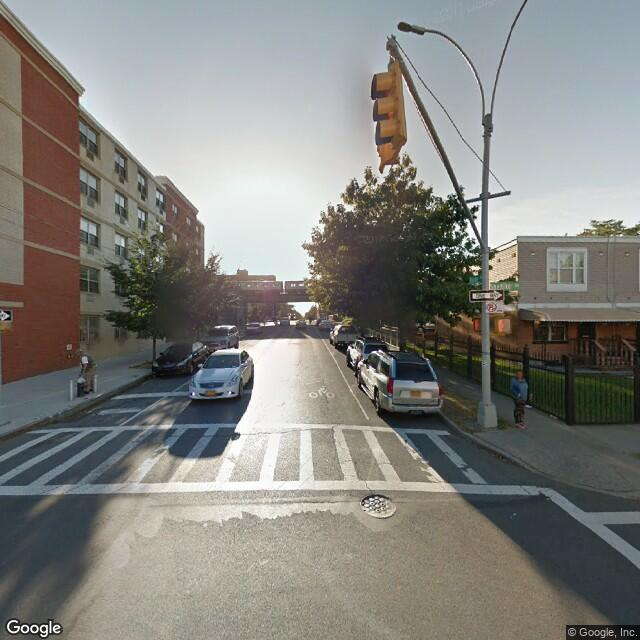litter: (508, 512, 523, 521)
